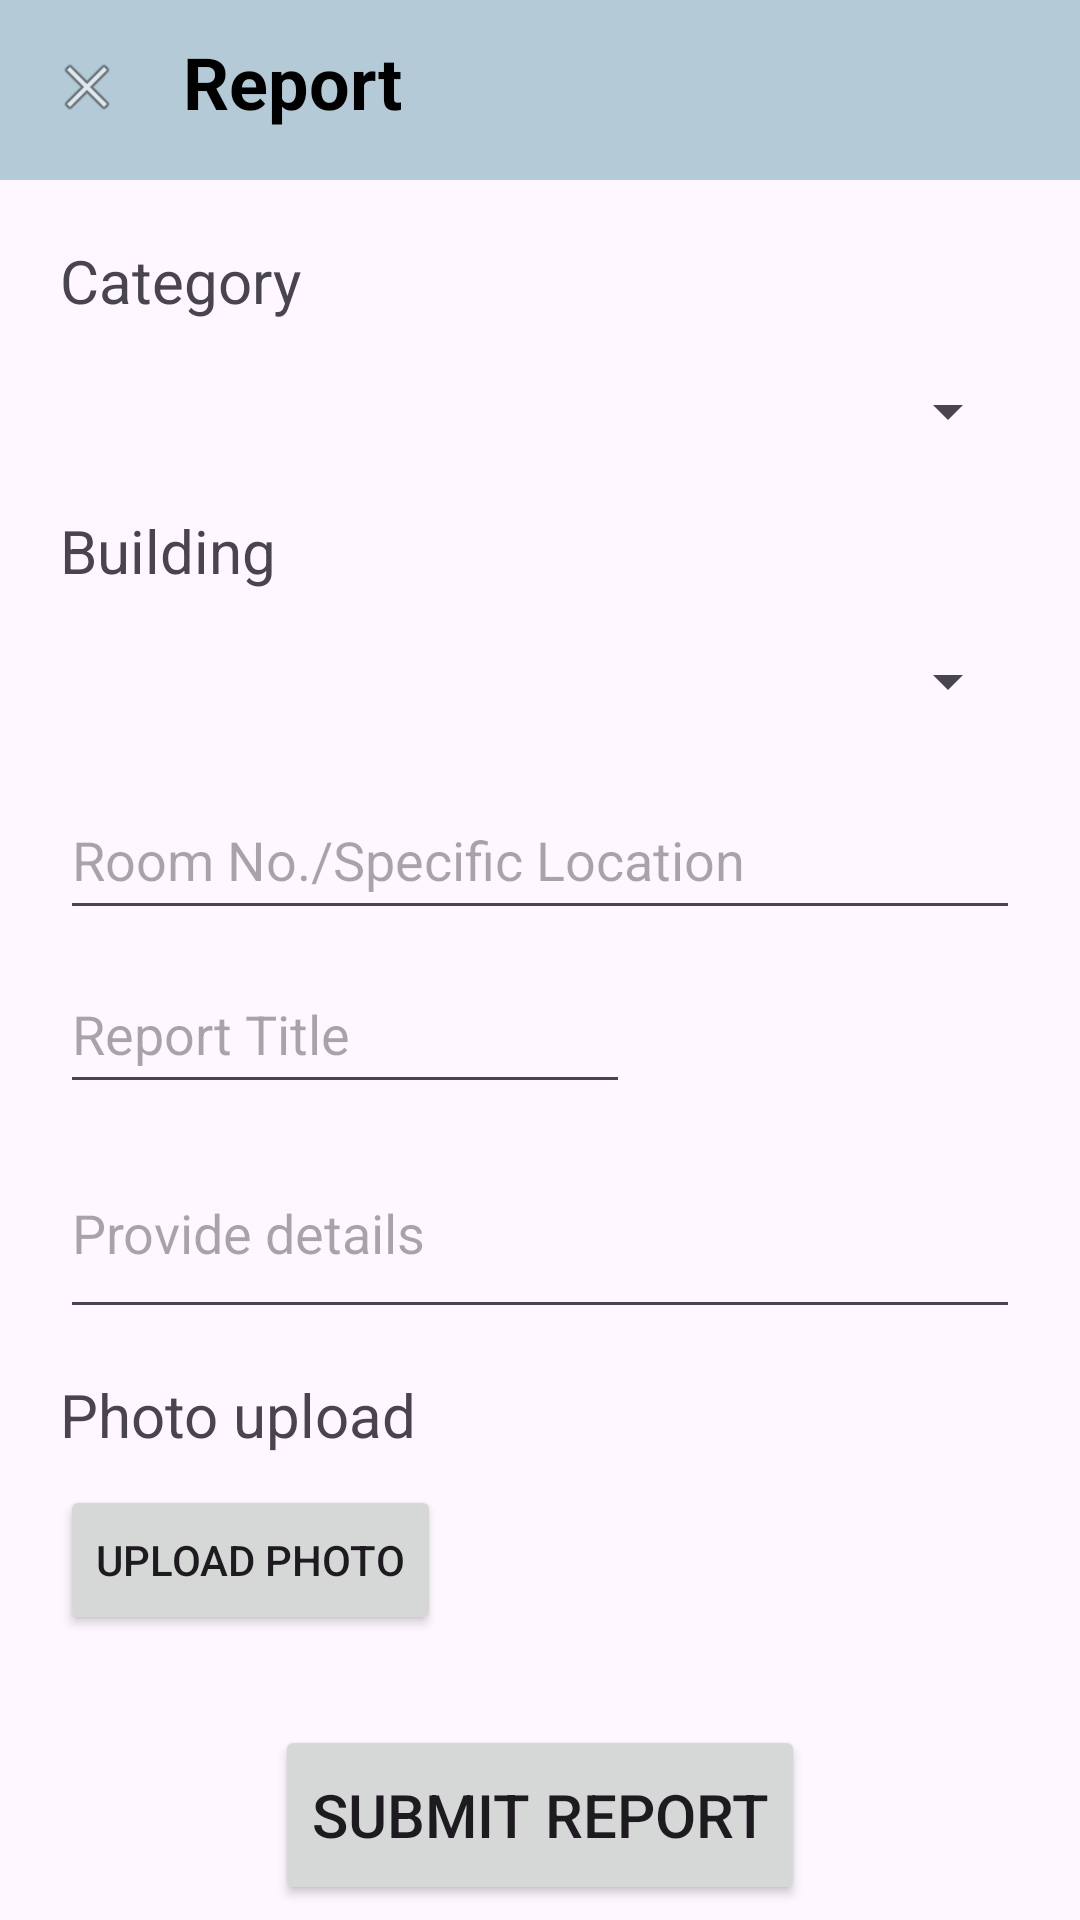

Locate icon controls on the screen. Image size 1080px×1920px, boxes as [x1, y1, x2, y2].
Close button: [64, 64, 110, 110]
